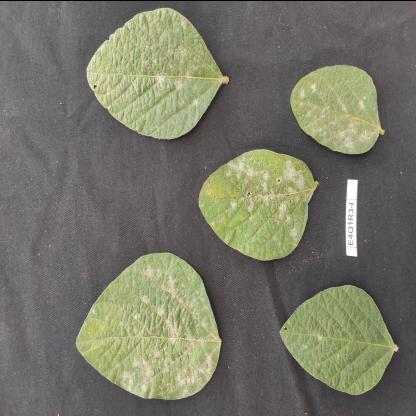label: (342, 169, 368, 258)
leaflets: (77, 244, 218, 404), (67, 3, 231, 140), (192, 146, 320, 268), (274, 278, 402, 396), (287, 48, 392, 162)
